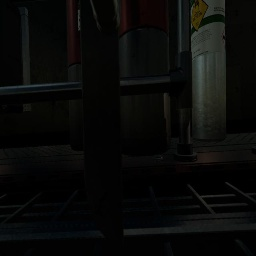0: (190, 0, 226, 142)
NitrogenTank ,: (119, 0, 171, 156), (66, 0, 83, 151)
